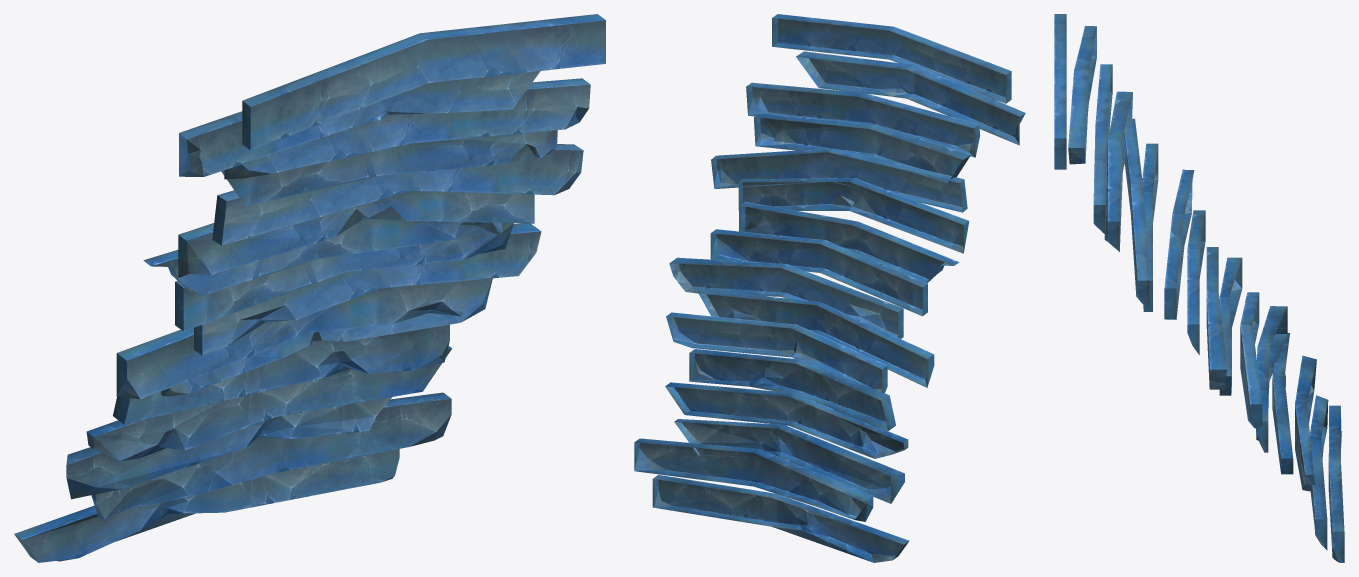
Rendered from juqing_yewai_572_stair_01.obj.
3 views of the same model, side by side, from view 1: azimuth 30°, elevation 25°; view 2: azimuth 150°, elevation 25°; view 3: azimuth 270°, elevation 25° (orthographic). The views are drawn at different scales.
Visible parts, largest first — view 1: juqing_yewai_572_stair_01, Object03, Object05, Object02, Object01, Object06, Object04; view 2: juqing_yewai_572_stair_01, Object03, Object01, Object05, Object02, Object06, Object04; view 3: juqing_yewai_572_stair_01, Object03, Object06, Object04, Object05, Object01, Object02.
Part boxes in pixels (box(x1,y1,x2,y2)): juqing_yewai_572_stair_01: box(14, 14, 605, 562); Object03: box(116, 223, 541, 399); Object05: box(178, 144, 583, 277); Object02: box(86, 324, 451, 461); Object01: box(66, 392, 451, 519); Object06: box(221, 78, 590, 205); Object04: box(143, 219, 513, 331); juqing_yewai_572_stair_01: box(652, 14, 1025, 562); Object03: box(666, 257, 934, 392); Object01: box(634, 419, 904, 521); Object05: box(711, 148, 969, 253); Object02: box(665, 349, 908, 458); Object06: box(746, 82, 980, 183); Object04: box(710, 202, 959, 316); juqing_yewai_572_stair_01: box(1054, 14, 1344, 562); Object03: box(1206, 247, 1262, 428); Object06: box(1093, 64, 1132, 251); Object04: box(1164, 169, 1205, 354); Object05: box(1124, 118, 1158, 311); Object01: box(1295, 355, 1328, 550); Object02: box(1256, 306, 1293, 474).
Bounding box in the file's own units: 637 × 864 × 505.
Materials: 1 (1 with a texture image).
